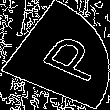P_NW: (13, 26, 97, 84)
